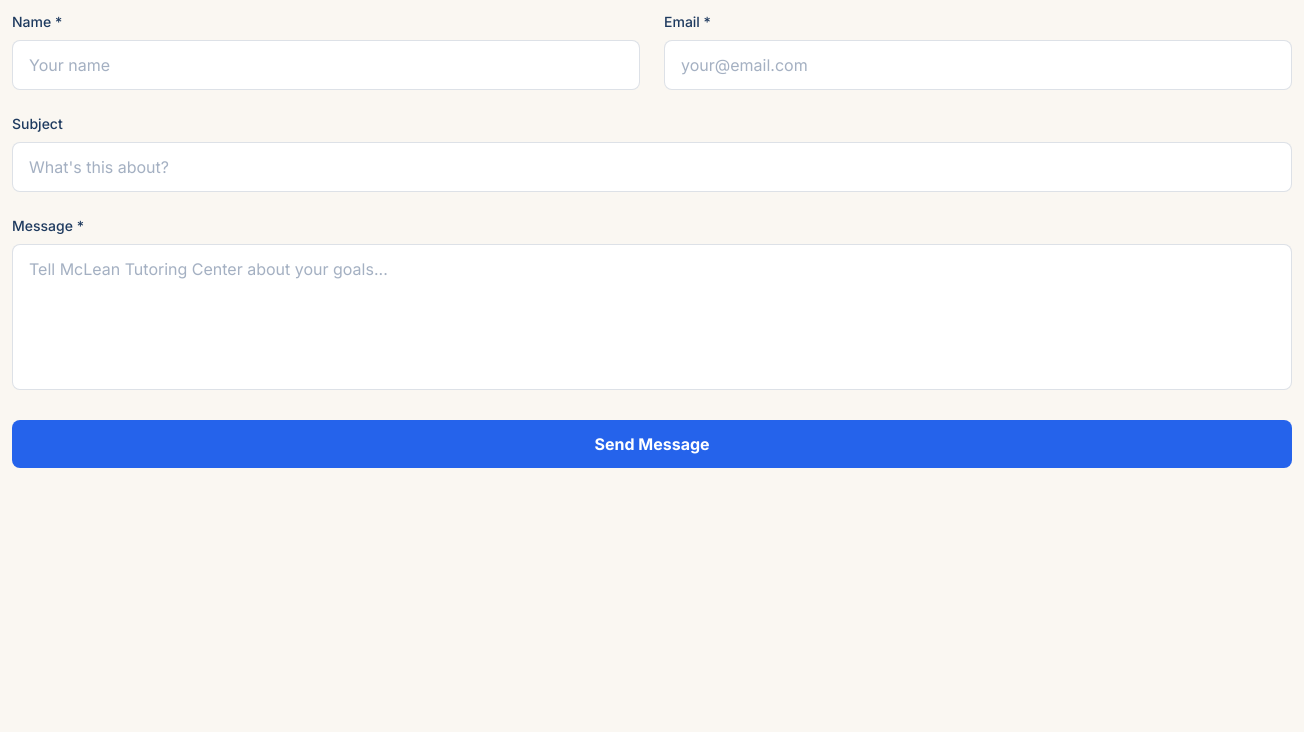
Scenario: ContactForm › shows error message when submission fails
This screenshot has width=1304, height=732.
Type "Jamie Smith" into the field labelled "Name *" at (326, 65), box [12,40,640,90]
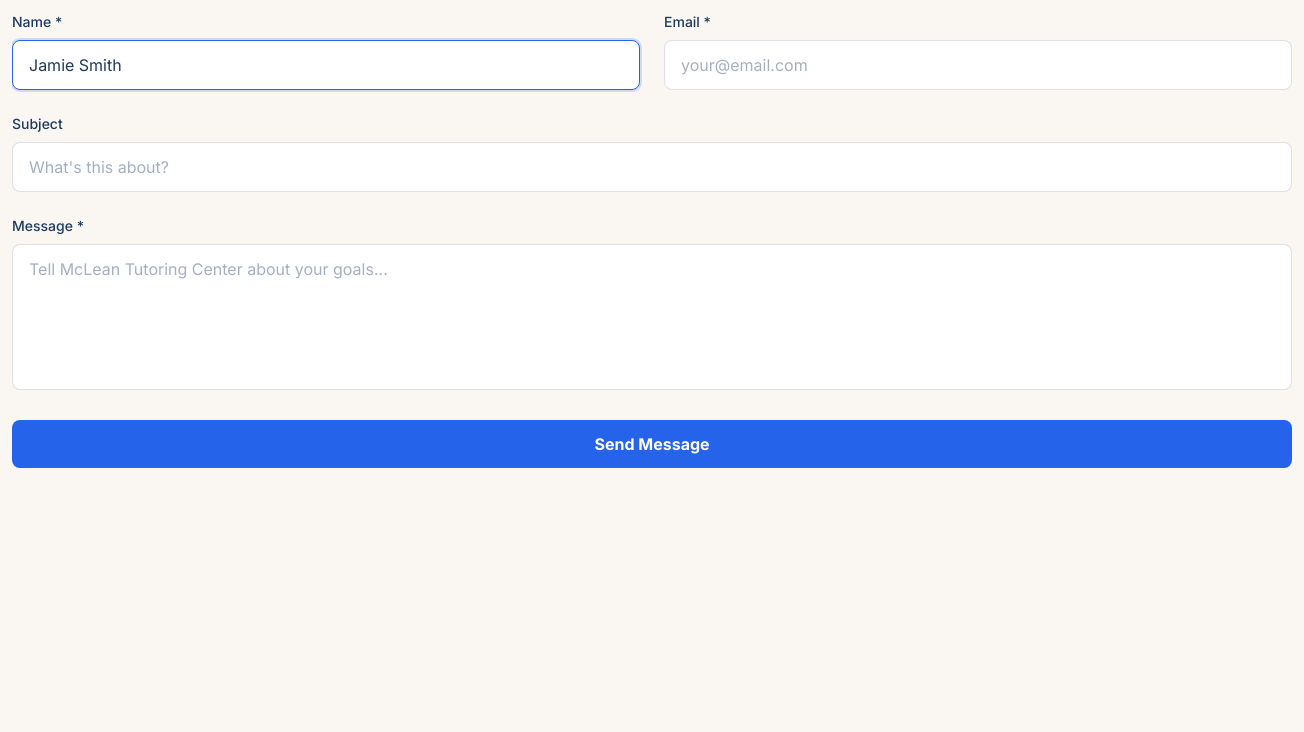
Type "jamie@example.com" into the field labelled "Email *" at (978, 65), box [664,40,1292,90]
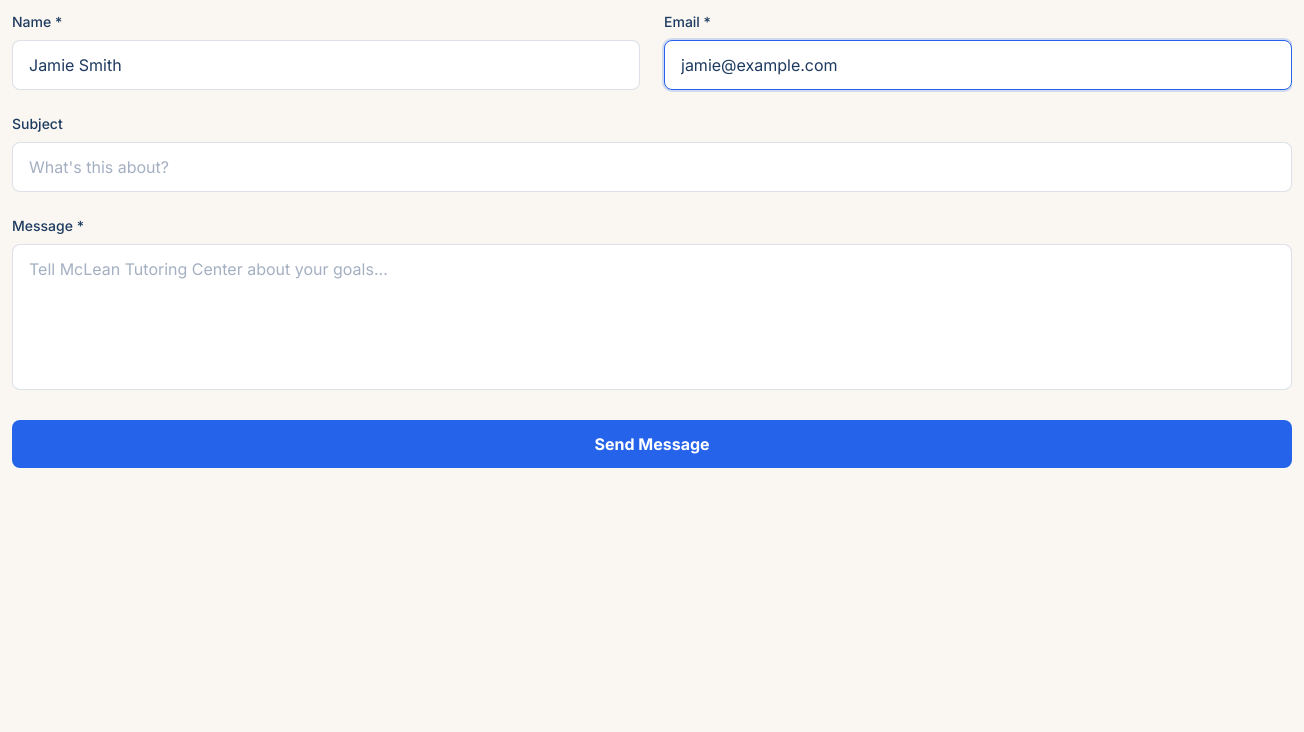
Type "I need SAT help" into the text box labelled "Message *" at (652, 317), box [12,244,1292,390]
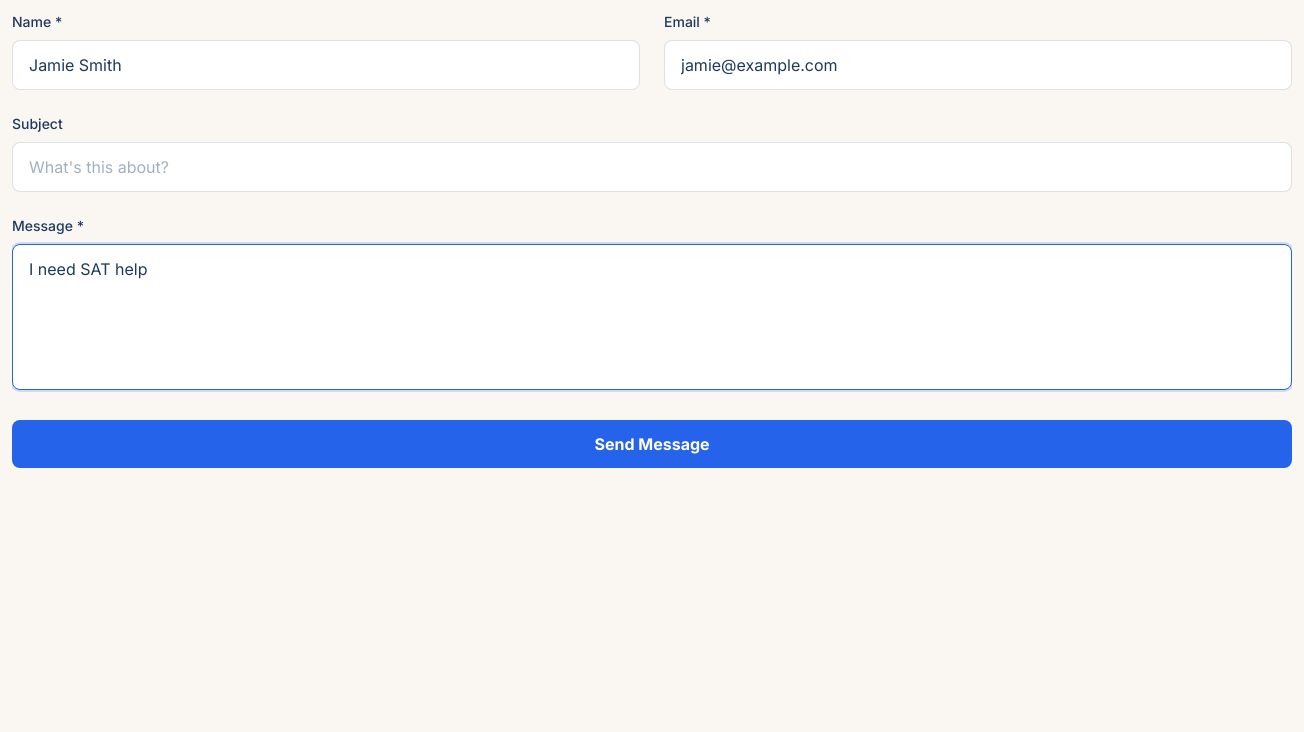
Click the button "Send Message" at (652, 444), box [12,420,1292,468]
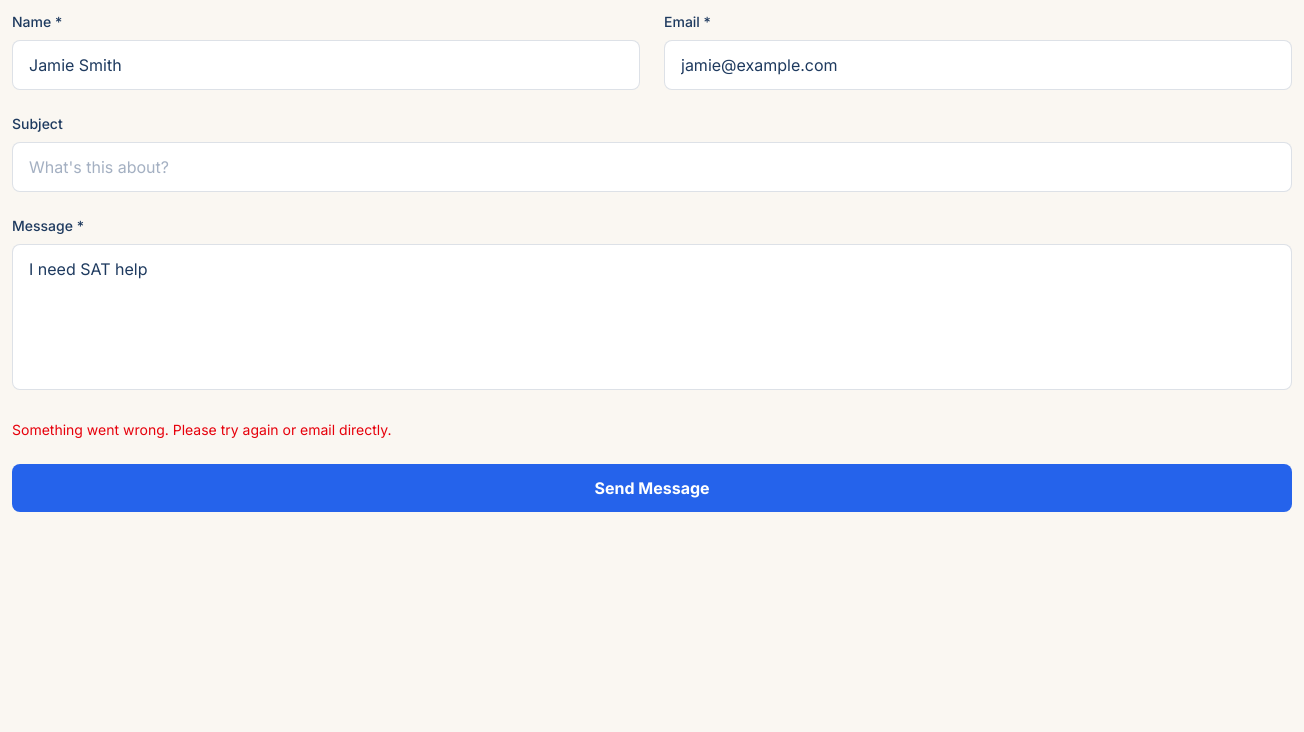
Check: the text "Something went wrong. Please try again or email directly." is shown, box [12,421,392,438]
